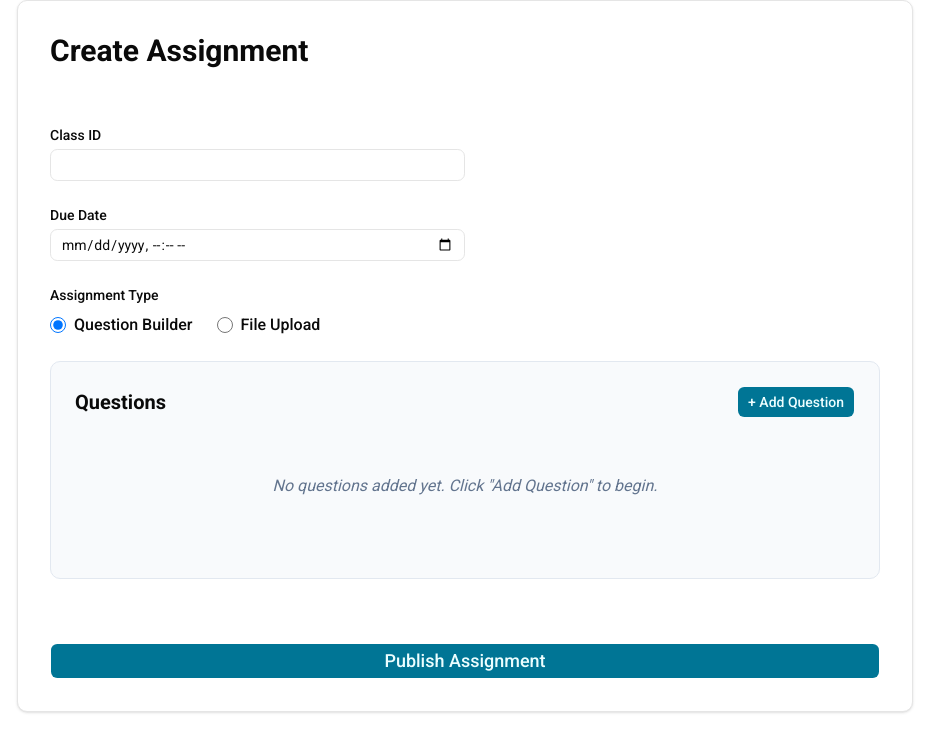
Test case: shows file url input when file type is selected
The width and height of the screenshot is (931, 730).
Click the radio button labelled "File Upload". click: {"x": 224, "y": 325}
box: [216,317,232,333]
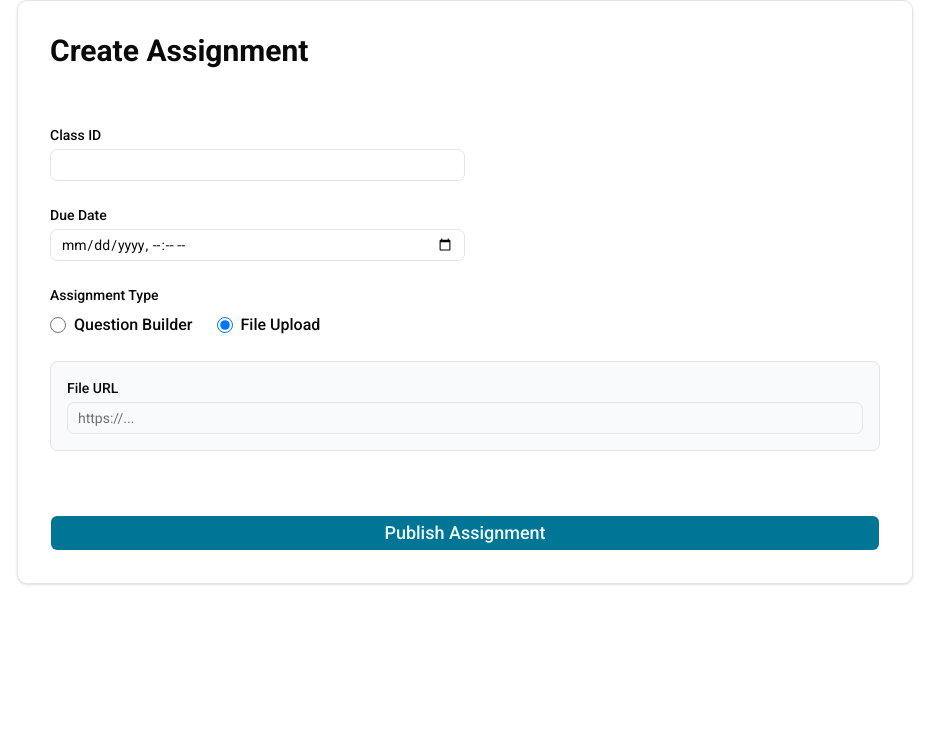
Expected: the field labelled "File URL" is shown, [67,402,863,434]
